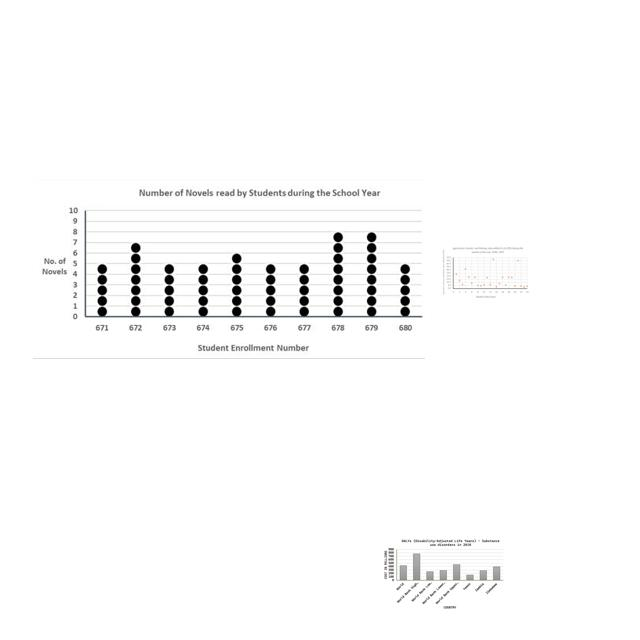Graph: (33, 180, 425, 359), (382, 537, 505, 612), (440, 245, 530, 299)
